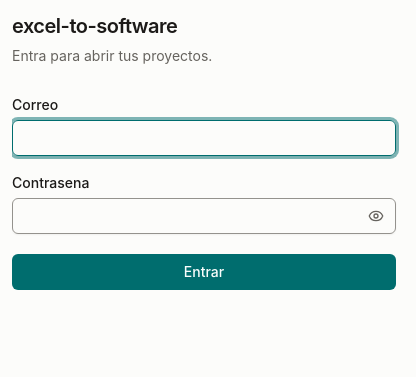
it: V1 — Entrar › explica el fallo sin borrar lo escrito
The image size is (416, 377).
Type "ana@example.test" into the field labelled "Correo" at (204, 138), box left=12, top=120, right=396, bottom=156
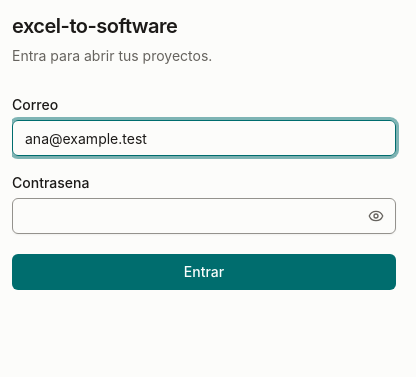
Type "secreta-larga" into the password field labelled "Contrasena" at (204, 216), box left=12, top=198, right=396, bottom=234
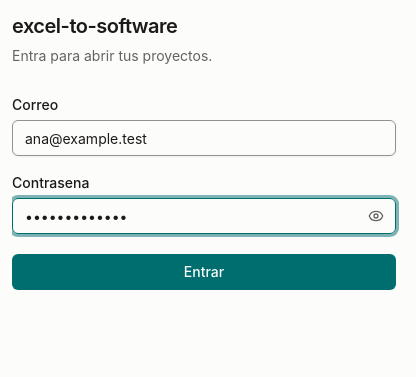
Click the button "Entrar" at (204, 272), box left=12, top=254, right=396, bottom=290
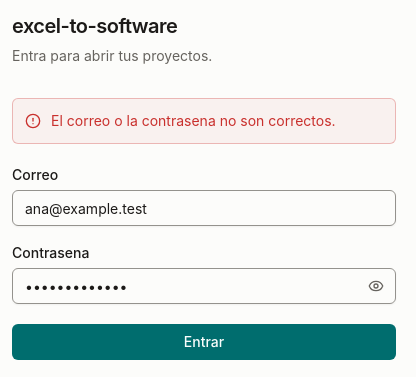
Check: the message reads "El correo o la contrasena no son correctos.", box left=51, top=112, right=336, bottom=129
